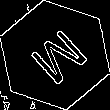M_SE: (20, 21, 90, 89)
